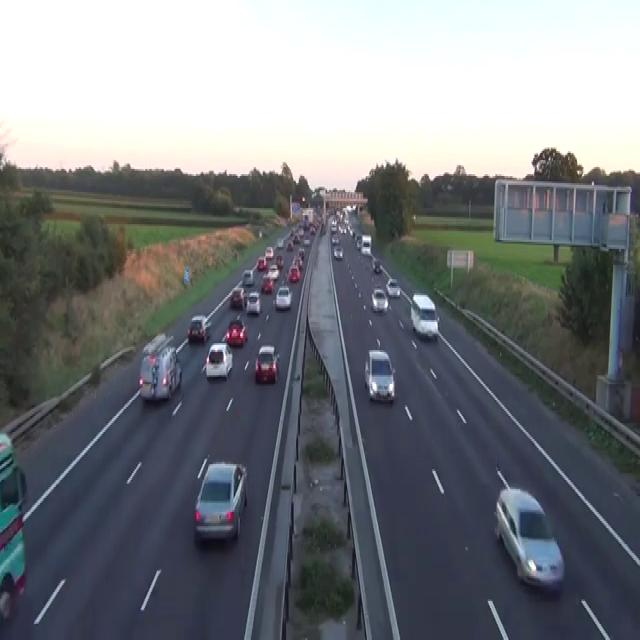Car: (493, 464, 564, 594), (193, 460, 247, 542), (138, 345, 181, 402), (0, 530, 26, 624), (0, 432, 27, 508), (364, 348, 395, 402), (410, 292, 440, 340), (205, 341, 233, 379), (254, 345, 280, 384), (142, 330, 173, 356), (186, 313, 211, 343), (224, 318, 248, 347), (274, 284, 292, 310), (371, 288, 388, 313), (229, 286, 246, 310), (246, 290, 260, 314), (385, 277, 400, 297), (260, 274, 273, 293), (288, 265, 300, 283), (242, 268, 254, 284), (268, 263, 279, 279), (292, 254, 303, 268), (372, 256, 381, 272), (333, 246, 343, 260), (256, 256, 266, 270), (345, 202, 356, 212), (265, 245, 273, 258), (355, 235, 362, 249), (276, 254, 283, 268), (361, 244, 370, 254), (330, 219, 337, 231), (320, 222, 326, 235), (286, 240, 293, 251), (331, 234, 339, 243), (349, 226, 355, 238), (276, 237, 283, 247), (293, 233, 300, 243), (298, 247, 304, 258), (303, 237, 310, 246), (297, 226, 303, 236), (290, 226, 295, 236), (340, 226, 346, 234), (258, 228, 262, 238), (310, 226, 315, 234)
Truck: (0, 430, 27, 624)
